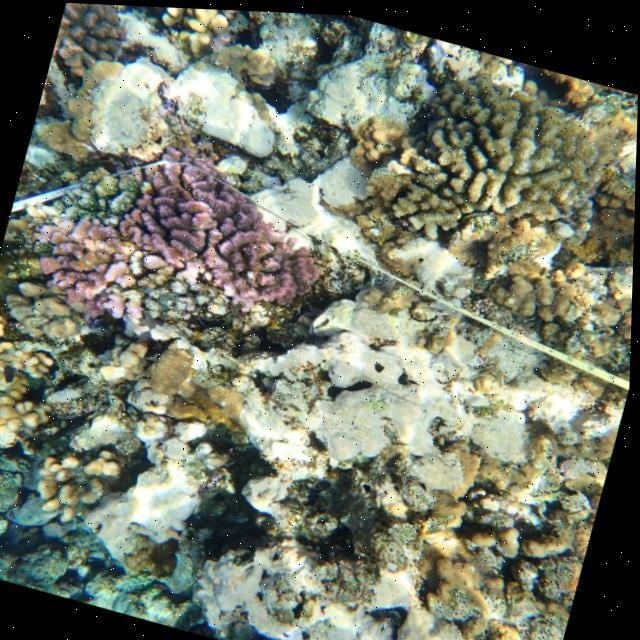Bleached Coral: (245, 275, 530, 493), (51, 8, 312, 198), (94, 412, 236, 570), (307, 531, 499, 640), (103, 246, 247, 346)
Healthy Coral: (402, 75, 622, 225), (127, 191, 295, 267)
